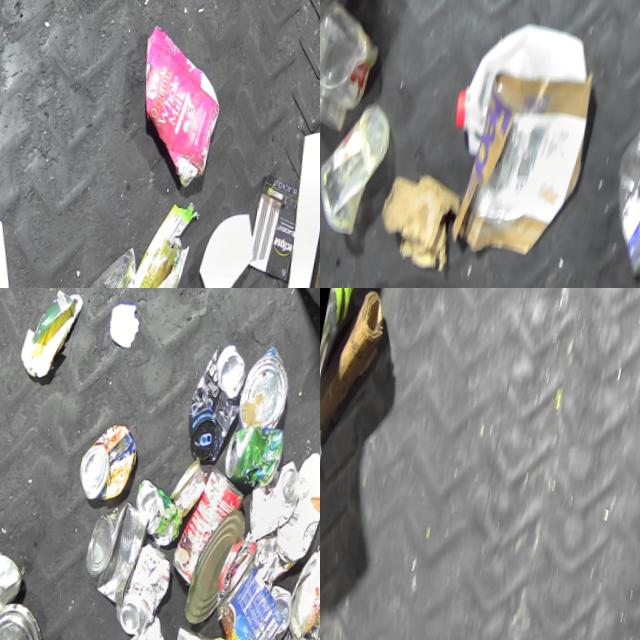can: (172, 466, 252, 594), (183, 342, 254, 469), (81, 499, 156, 613), (186, 508, 252, 632), (207, 557, 295, 640), (603, 96, 640, 284), (115, 541, 179, 640), (77, 420, 144, 508), (245, 458, 307, 550), (238, 345, 298, 435), (222, 424, 287, 493), (131, 479, 190, 552), (74, 243, 152, 288), (287, 549, 320, 640), (169, 459, 212, 523), (0, 596, 57, 640), (0, 552, 29, 621), (265, 585, 298, 640)
milk_jug: (450, 6, 601, 170)
